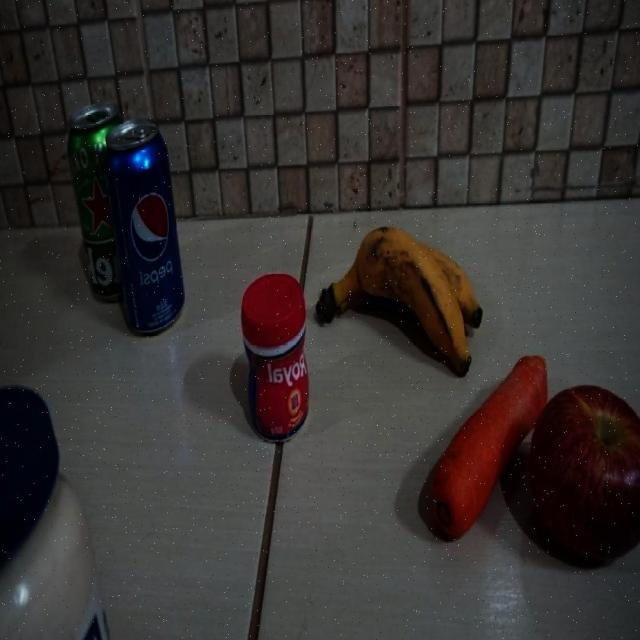Apple: (530, 385, 640, 562)
Banana: (315, 227, 484, 374)
BeerCan: (64, 99, 126, 307)
Carrot: (430, 356, 548, 542)
Mayonnaise: (0, 387, 117, 640)
SodaCan: (104, 118, 186, 334)
Yeast: (240, 271, 310, 445)
